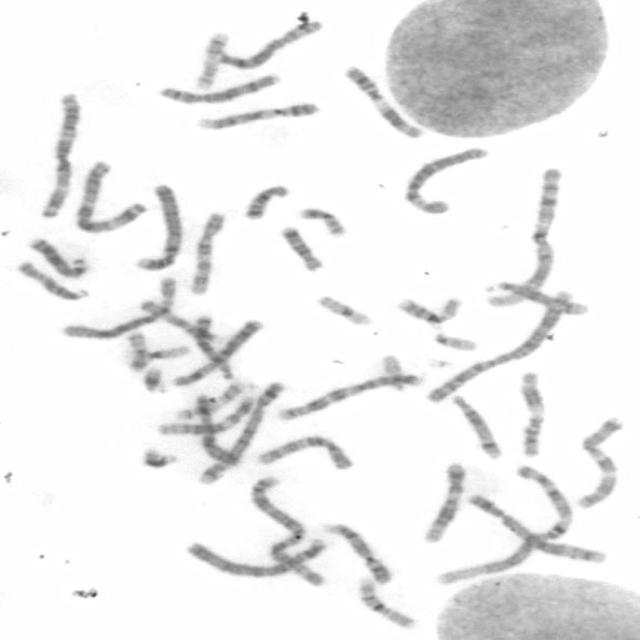A1: (432, 464, 578, 588), (484, 166, 564, 317)
A2: (422, 287, 583, 405), (244, 474, 328, 589)
A3: (31, 88, 86, 221), (71, 159, 150, 237)
B4: (184, 536, 332, 582), (135, 181, 186, 274)
B5: (465, 490, 609, 565), (193, 379, 288, 487)
C10: (248, 433, 356, 475), (184, 208, 230, 300)
C11: (339, 62, 429, 141), (513, 371, 549, 458)
C12: (153, 394, 258, 437), (419, 458, 467, 546)
C6: (61, 276, 180, 342), (398, 146, 491, 216)
C7: (271, 372, 427, 424), (570, 416, 625, 508)
C8: (214, 19, 325, 71), (157, 72, 285, 107)
C9: (319, 520, 394, 586), (197, 101, 324, 133)
D13: (192, 311, 238, 381), (24, 238, 93, 278)
D14: (445, 392, 506, 462), (482, 281, 590, 316)
D15: (135, 298, 224, 346), (11, 263, 97, 303)
E16: (351, 578, 419, 629), (391, 292, 467, 327)
E17: (172, 376, 245, 421), (187, 31, 234, 92)
E18: (275, 224, 328, 272), (242, 183, 292, 223)
F19: (310, 294, 376, 328), (132, 340, 194, 367)
F20: (294, 206, 348, 238), (119, 328, 154, 374)
G21: (136, 446, 180, 469), (138, 366, 167, 396)
G22: (380, 352, 408, 394), (429, 331, 478, 353)
X: (167, 316, 268, 389), (190, 391, 245, 469)
